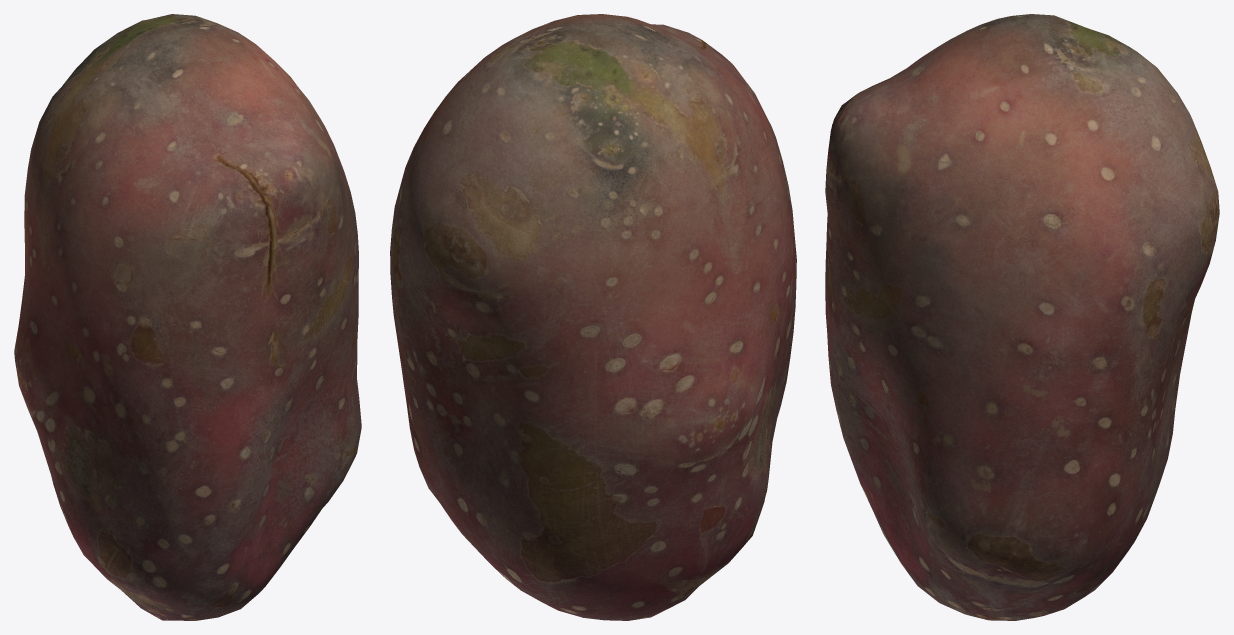
Rendered from sweet_potato.glb.
The picture shows the model from 3 angles, left to right: view 1: azimuth 30°, elevation 25°; view 2: azimuth 150°, elevation 25°; view 3: azimuth 270°, elevation 25°; orthographic projection. The views are drawn at different scales.
Visible parts, largest first — view 1: sweet_potato; view 2: sweet_potato; view 3: sweet_potato.
Part boxes in pixels (box(x1,y1,x2,y2)): sweet_potato: box(14, 14, 361, 620); sweet_potato: box(390, 14, 796, 620); sweet_potato: box(825, 14, 1219, 620).
Bounding box in the file's own units: 1.29 × 2.22 × 1.35.
Materials: 1 (1 with a texture image).
